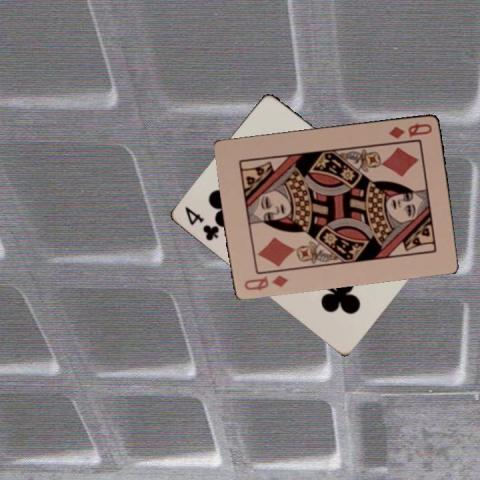4c: (182, 203, 221, 243)
Qd: (241, 271, 290, 292), (386, 120, 433, 140)
